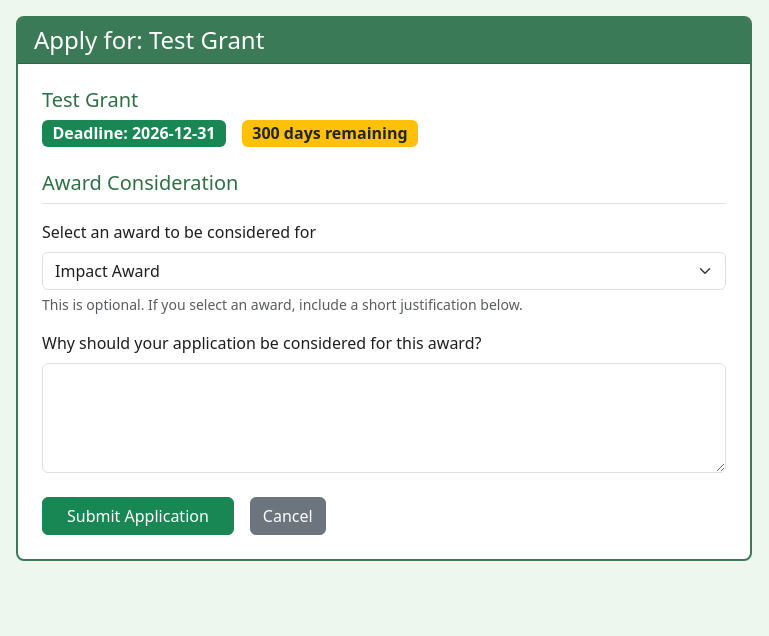
Test: GrantApplicationForm › requires justification when an award is selected
This screenshot has width=769, height=636.
Click the button "Submit Application" at (138, 516), box [42, 497, 234, 535]
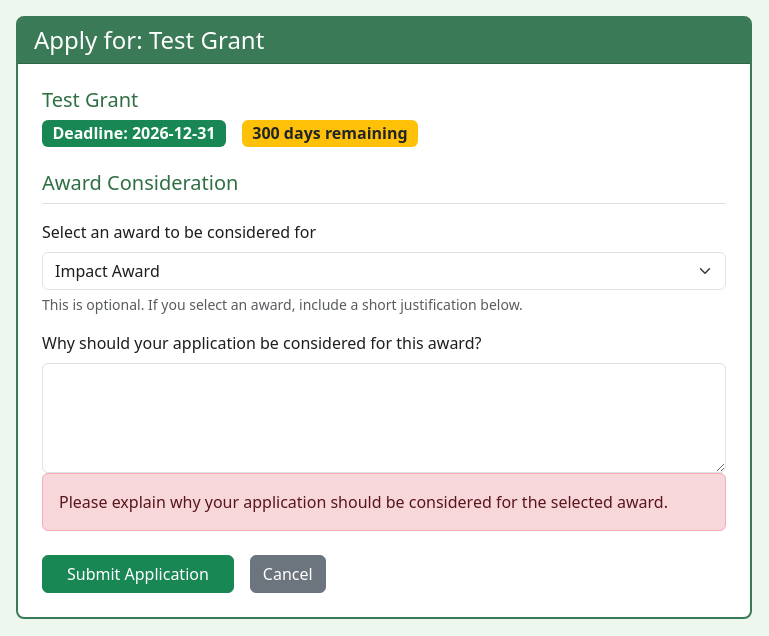
expect the message reads "Please explain why your application should be considered for the selected award.": met, box [59, 491, 668, 513]
